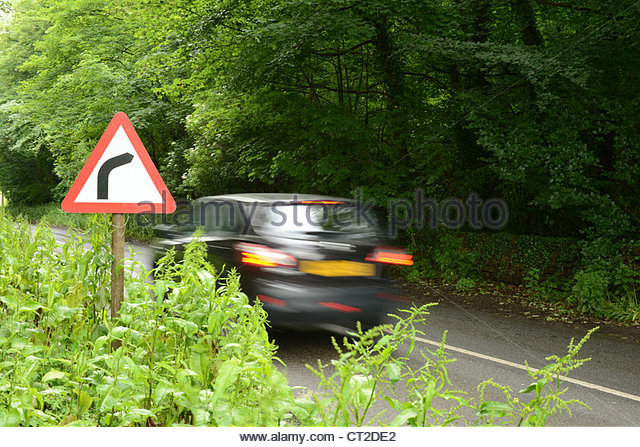Bend_to_right: (59, 109, 178, 217)
